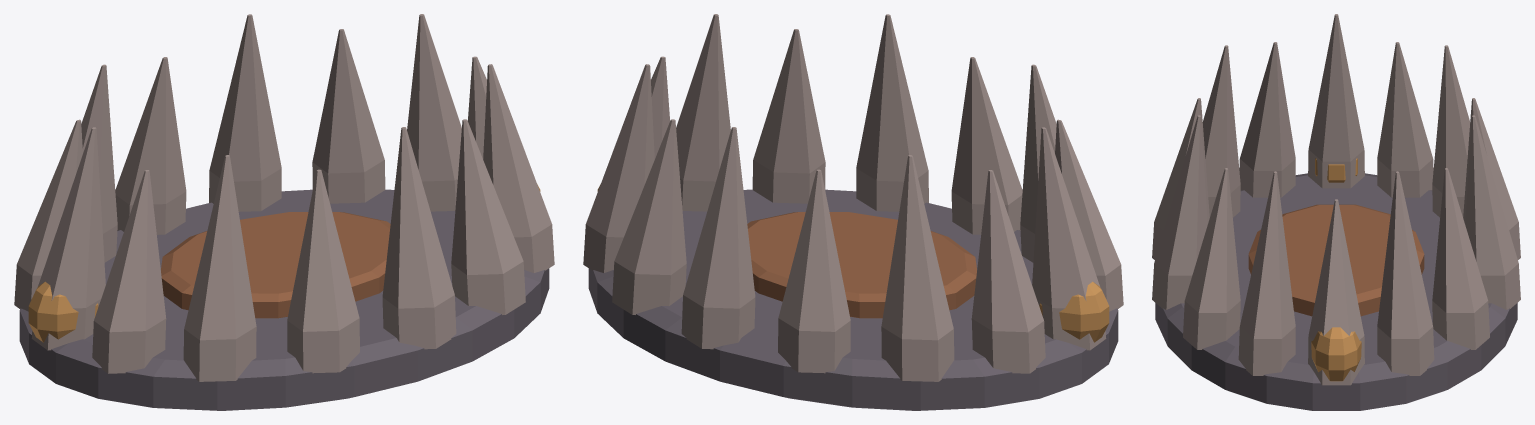
The model's file is SpringTrap.obj.
3 views of the same model, side by side, from view 1: azimuth 30°, elevation 25°; view 2: azimuth 150°, elevation 25°; view 3: azimuth 270°, elevation 25° (orthographic). The views are drawn at different scales.
Visible parts, largest first — view 1: Body; view 2: Body; view 3: Body.
Part boxes in pixels (x1,y1,x2,y2): Body: (14,14,554,410); Body: (583,14,1123,410); Body: (1152,14,1520,410).
Size of the model in its own units: 0.9067 by 0.417 by 0.646.
Materials: 1 (1 with a texture image).
